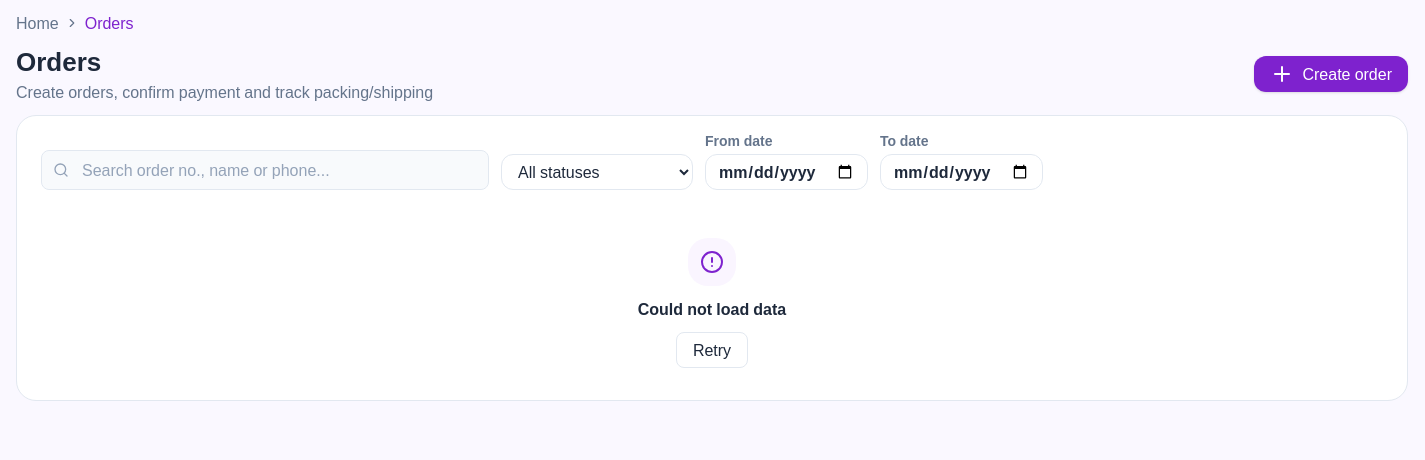
Scenario: OrderList › ຂໍ້ຜິດພາດ: ສະແດງ error ແລະ ປຸ່ມ Retry ຍິງໃໝ່
What coordinates should you click on to do the following:
click the button "Retry"
I would click on:
 (712, 350)
Its box is [676, 332, 748, 368].
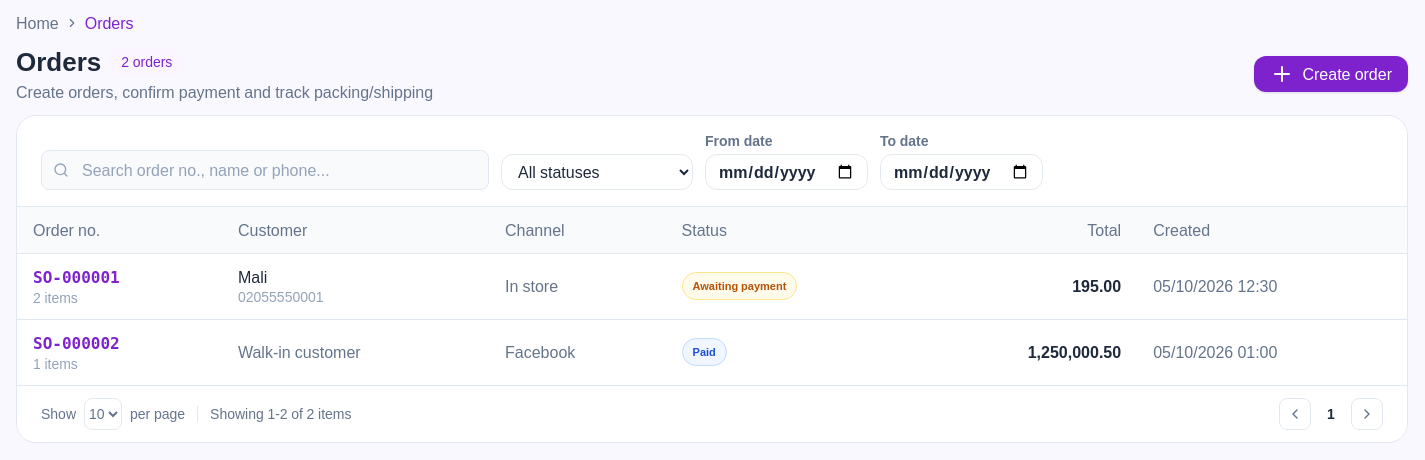
Result: the row with test id "row-order-o1" is shown at [17, 253, 1407, 319]
